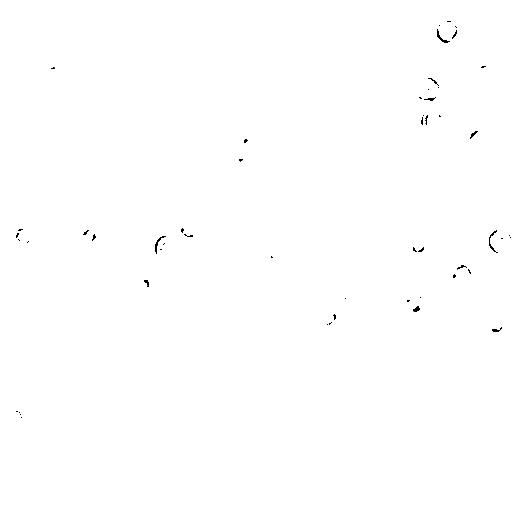micro-algae: (350, 31, 444, 130), (65, 115, 159, 209), (63, 71, 140, 148), (235, 1, 315, 67), (419, 57, 486, 124), (82, 263, 118, 299), (389, 280, 423, 315), (37, 57, 69, 91), (222, 145, 257, 175), (153, 231, 185, 263), (420, 107, 451, 139), (143, 146, 173, 177), (223, 255, 253, 285), (235, 396, 263, 424), (236, 131, 263, 157), (413, 76, 441, 101), (141, 253, 165, 281), (299, 11, 328, 33), (471, 62, 500, 84), (488, 227, 511, 254), (449, 262, 473, 287), (437, 452, 463, 475), (195, 413, 221, 435), (233, 0, 257, 23), (435, 19, 459, 42), (469, 126, 492, 149), (315, 307, 339, 329), (491, 93, 511, 118), (178, 163, 198, 187), (335, 424, 355, 448), (55, 280, 77, 301), (407, 290, 429, 311), (4, 407, 24, 430), (270, 226, 291, 247), (353, 14, 373, 35), (487, 313, 506, 334), (179, 223, 198, 243), (267, 245, 285, 263), (15, 228, 34, 245), (81, 227, 100, 244), (65, 499, 89, 511), (135, 277, 151, 294), (341, 292, 360, 306), (412, 238, 425, 253)
